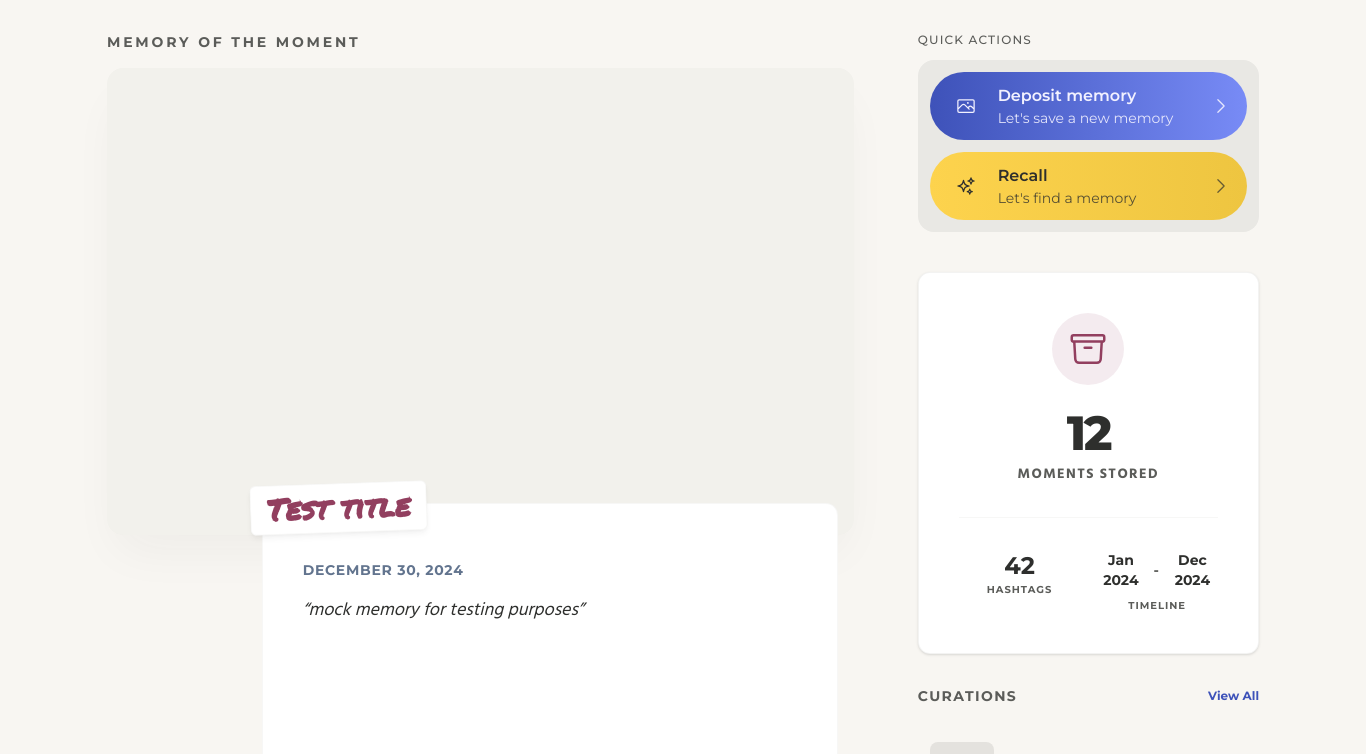
Dashboard › should load another memory when recall button is clicked
Check: the heading "Test title" is shown, box left=249, top=480, right=428, bottom=536
Check: the text "“mock memory for testing purposes”" is shown, box left=303, top=596, right=584, bottom=625
Click the button "Recall Let's find a memory" at (1088, 186), box left=930, top=152, right=1247, bottom=220
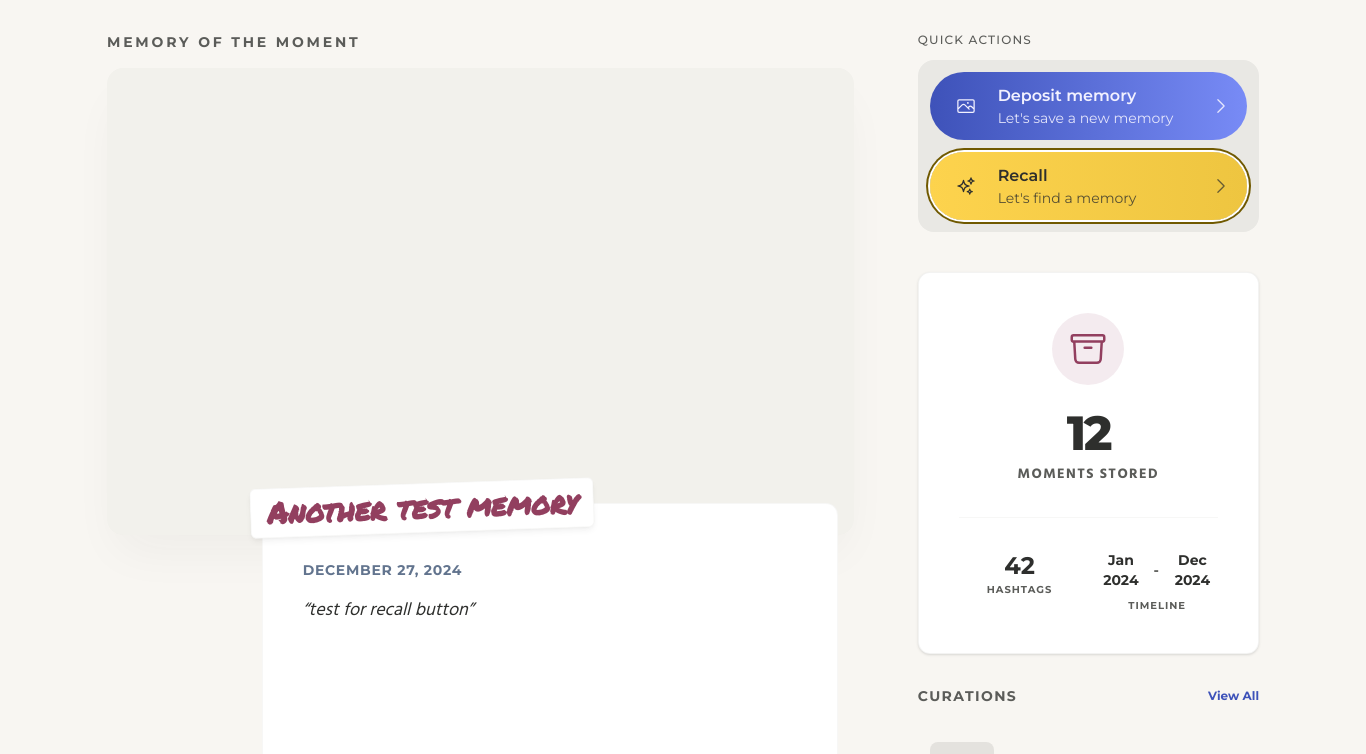
Check: the heading "Another test memory" is shown, box left=249, top=477, right=595, bottom=539
Check: the text "“test for recall button”" is shown, box left=303, top=596, right=474, bottom=625
